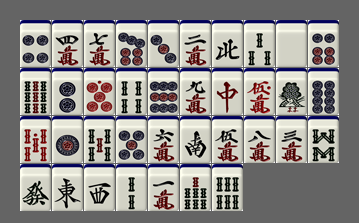0m: (244, 68, 275, 115)
0p: (84, 68, 115, 115)
0s: (20, 116, 51, 163)
1m: (148, 164, 179, 211)
1p: (52, 116, 83, 163)
1s: (276, 68, 307, 115)
1z: (52, 164, 83, 211)
2m: (180, 20, 211, 67)
2p: (52, 68, 83, 115)
2s: (116, 164, 147, 211)
2z: (180, 116, 211, 163)
3m: (276, 116, 307, 163)
3p: (148, 20, 179, 67)
3s: (244, 20, 275, 67)
3z: (84, 164, 115, 211)
4m: (52, 20, 83, 67)
4p: (20, 20, 51, 67)
4s: (116, 68, 147, 115)
4z: (212, 20, 243, 67)
5m: (212, 116, 243, 163)
5p: (116, 116, 147, 163)
5s: (84, 116, 115, 163)
5z: (276, 20, 307, 67)
6m: (148, 116, 179, 163)
6p: (308, 20, 339, 67)
6s: (212, 164, 243, 211)
6z: (20, 164, 51, 211)
7m: (84, 20, 115, 67)
7p: (116, 20, 147, 67)
7s: (180, 164, 211, 211)
7z: (212, 68, 243, 115)
8m: (244, 116, 275, 163)
8p: (308, 68, 339, 115)
8s: (308, 116, 339, 163)
9m: (180, 68, 211, 115)
9p: (148, 68, 179, 115)
9s: (20, 68, 51, 115)
